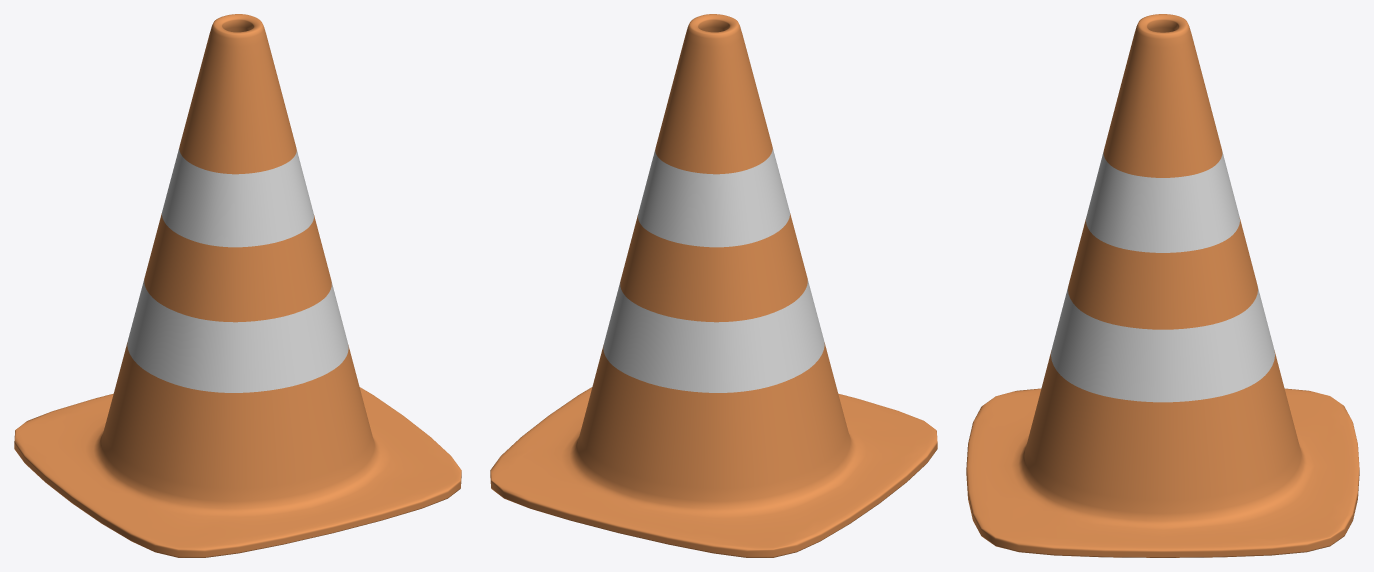
The model's file is plot.glb.
3 views of the same model, side by side, from view 1: azimuth 30°, elevation 25°; view 2: azimuth 150°, elevation 25°; view 3: azimuth 270°, elevation 25° (orthographic). The views are drawn at different scales.
Visible parts, largest first — view 1: Circle.002; view 2: Circle.002; view 3: Circle.002.
Part boxes in pixels (left/top/right/bottom): Circle.002: left=14, top=14, right=461, bottom=557; Circle.002: left=490, top=14, right=937, bottom=557; Circle.002: left=966, top=14, right=1359, bottom=557.
Bounding box in the file's own units: 0.8186 × 1.04 × 0.8186.
